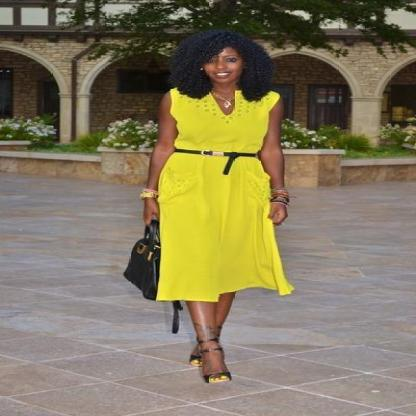bag: (124, 225, 160, 300)
dress: (155, 90, 292, 307)
shoe: (189, 336, 231, 382)
